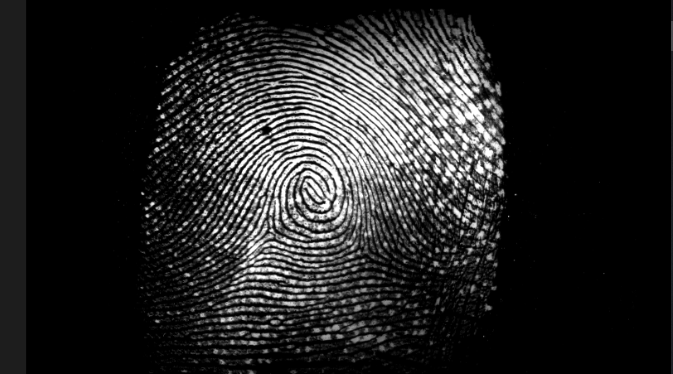deltas: (244, 208, 296, 255), (344, 229, 381, 269)
nucleo: (294, 163, 330, 209)
